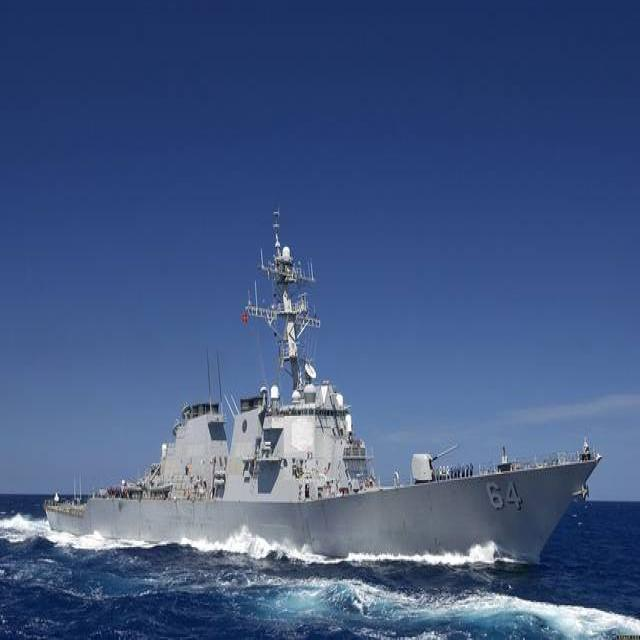navalvessels: (49, 252, 581, 593)
